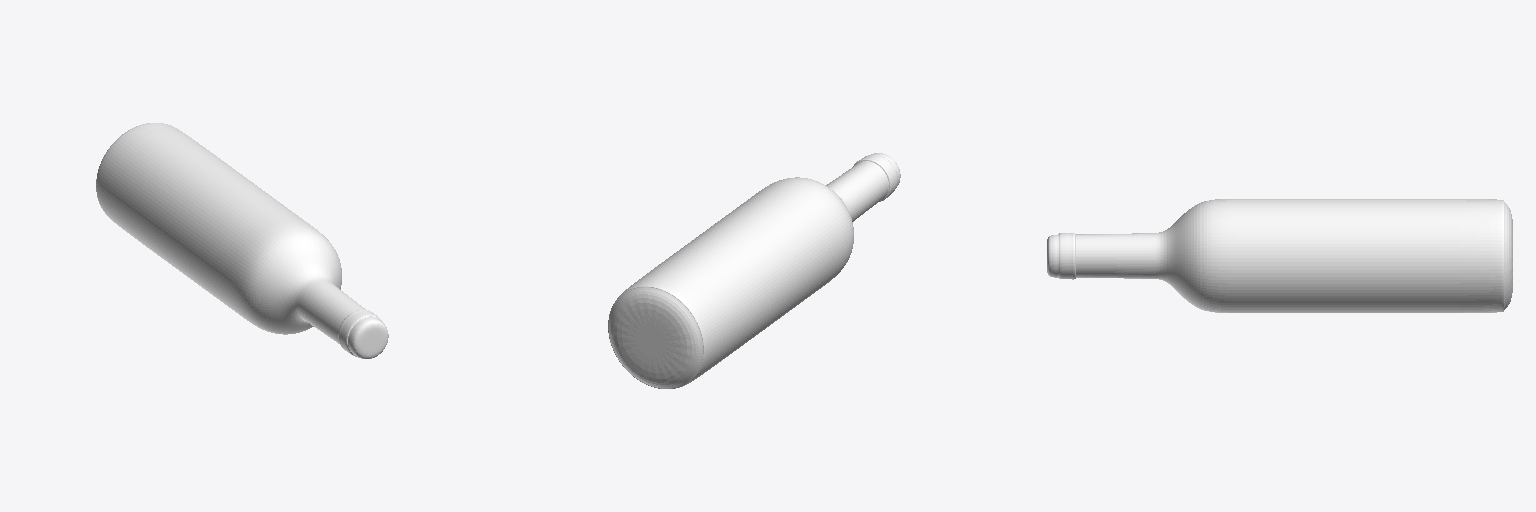
Rendered from 14042_750_mL_Wine_Bottle_r_v1_L3.obj.
The picture shows the model from 3 angles: view 1: azimuth 30°, elevation 25°; view 2: azimuth 150°, elevation 25°; view 3: azimuth 270°, elevation 25°; orthographic projection.
Visible parts, largest first — view 1: 14042_750_mL_Wine_Bottle; view 2: 14042_750_mL_Wine_Bottle; view 3: 14042_750_mL_Wine_Bottle.
Boxes of the visible parts, x1,y1,x2,y2 form: 14042_750_mL_Wine_Bottle: [96, 123, 388, 358]; 14042_750_mL_Wine_Bottle: [608, 153, 900, 388]; 14042_750_mL_Wine_Bottle: [1047, 199, 1512, 312].
Size of the model in its own units: 5.19 by 5.19 by 21.16.